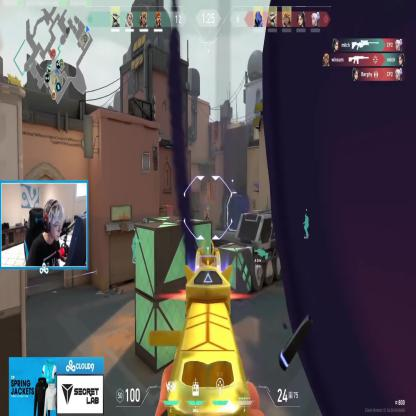enemy: (205, 206, 209, 223)
enemy_head: (207, 208, 208, 212)
